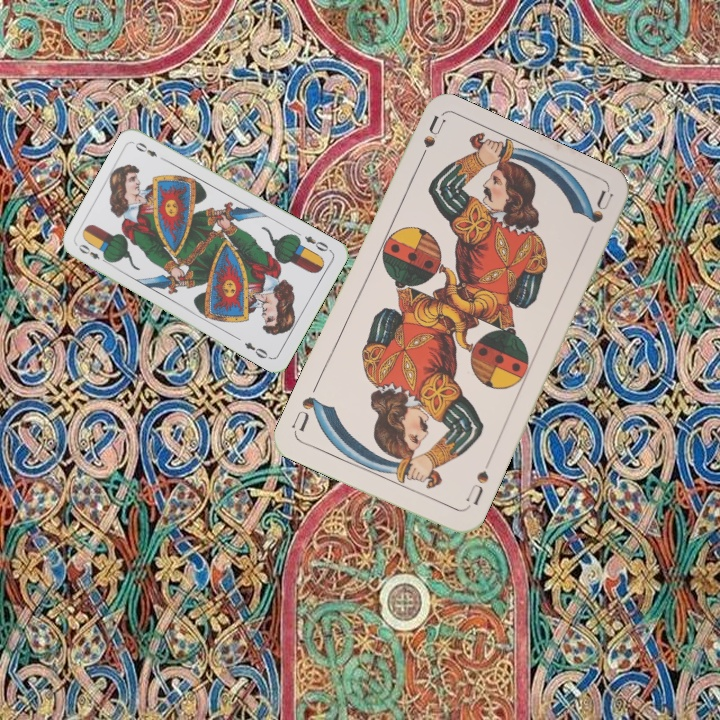EO: (74, 240, 111, 267), (300, 232, 334, 254)
SU: (412, 113, 447, 171), (461, 456, 494, 512)
